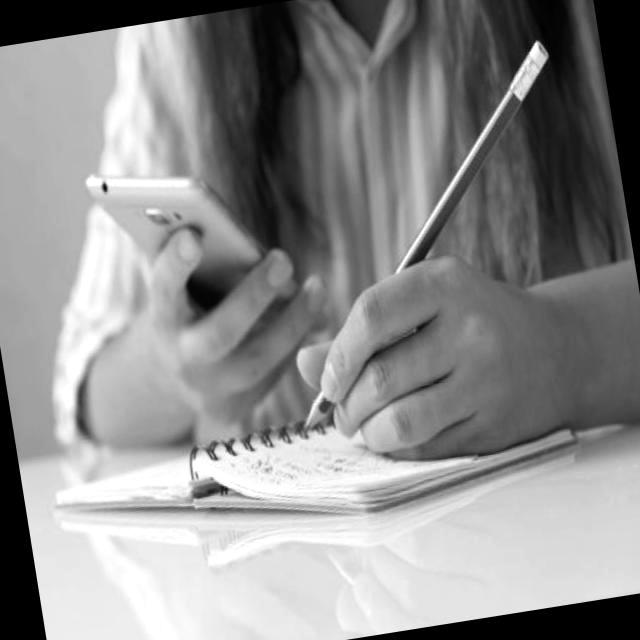phone: (84, 141, 316, 362)
